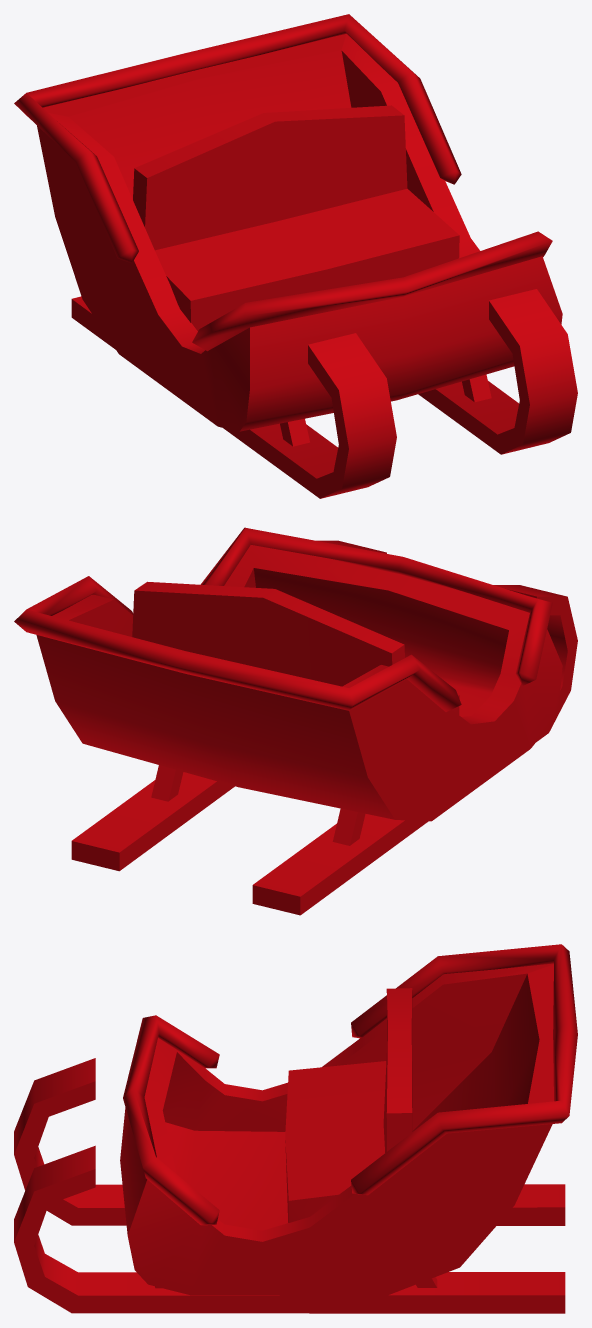
File: Sledge.fbx
The picture shows the model from 3 angles, top to bottom: view 1: azimuth 30°, elevation 25°; view 2: azimuth 150°, elevation 25°; view 3: azimuth 270°, elevation 25°; orthographic projection.
Visible parts, largest first — view 1: Sledge; view 2: Sledge; view 3: Sledge.
Boxes of the visible parts, <box> form: Sledge: <box>14,14,577,498</box>; Sledge: <box>14,527,577,915</box>; Sledge: <box>14,944,577,1313</box>.
Size of the model in its own units: 184 by 121 by 263.
